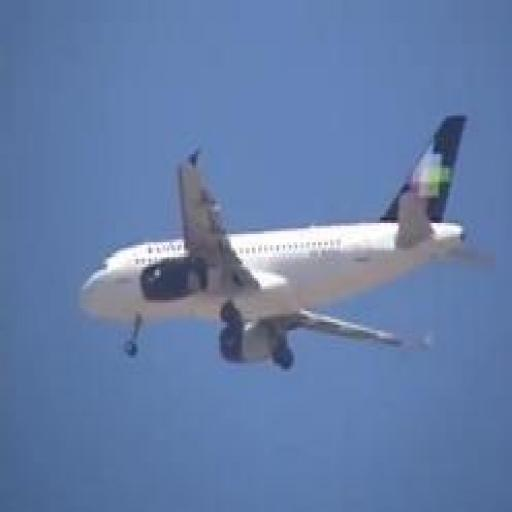aircraft: (76, 115, 494, 372)
